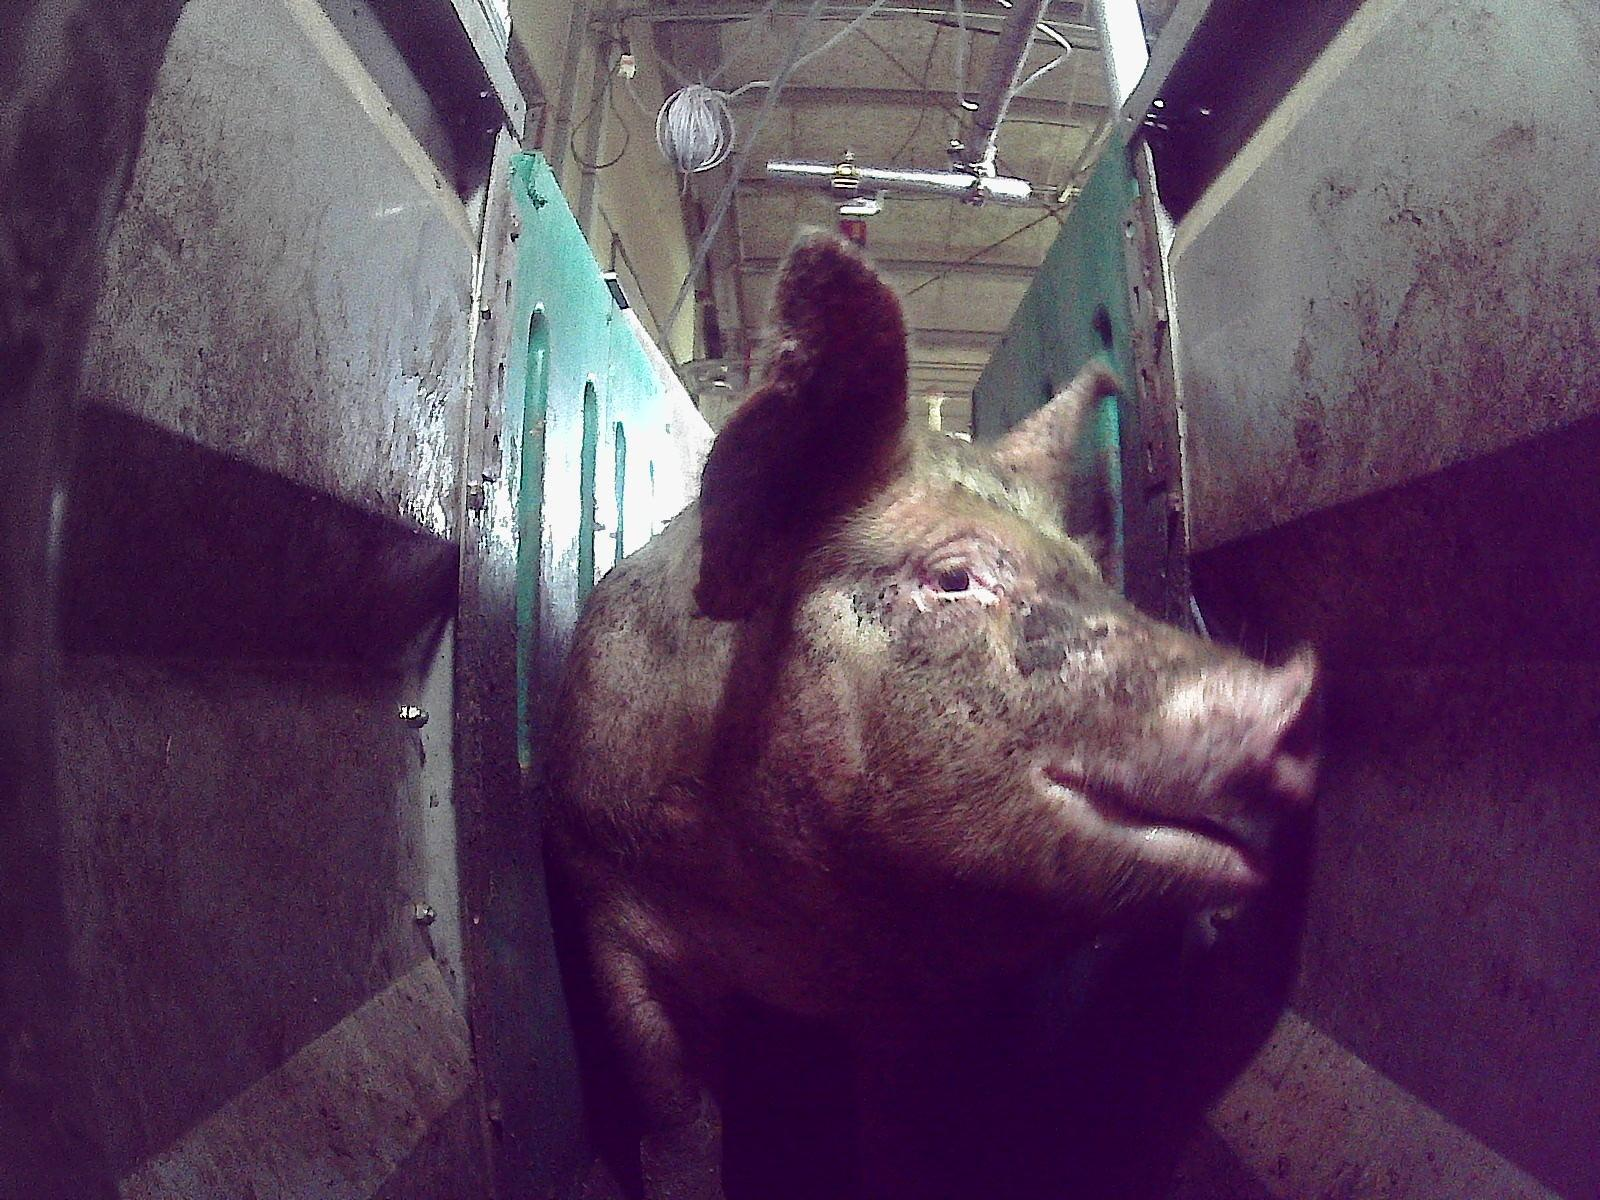Face: (679, 424, 1318, 986)
